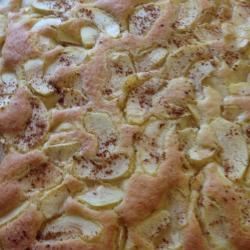apple_pie: (15, 21, 216, 212)
